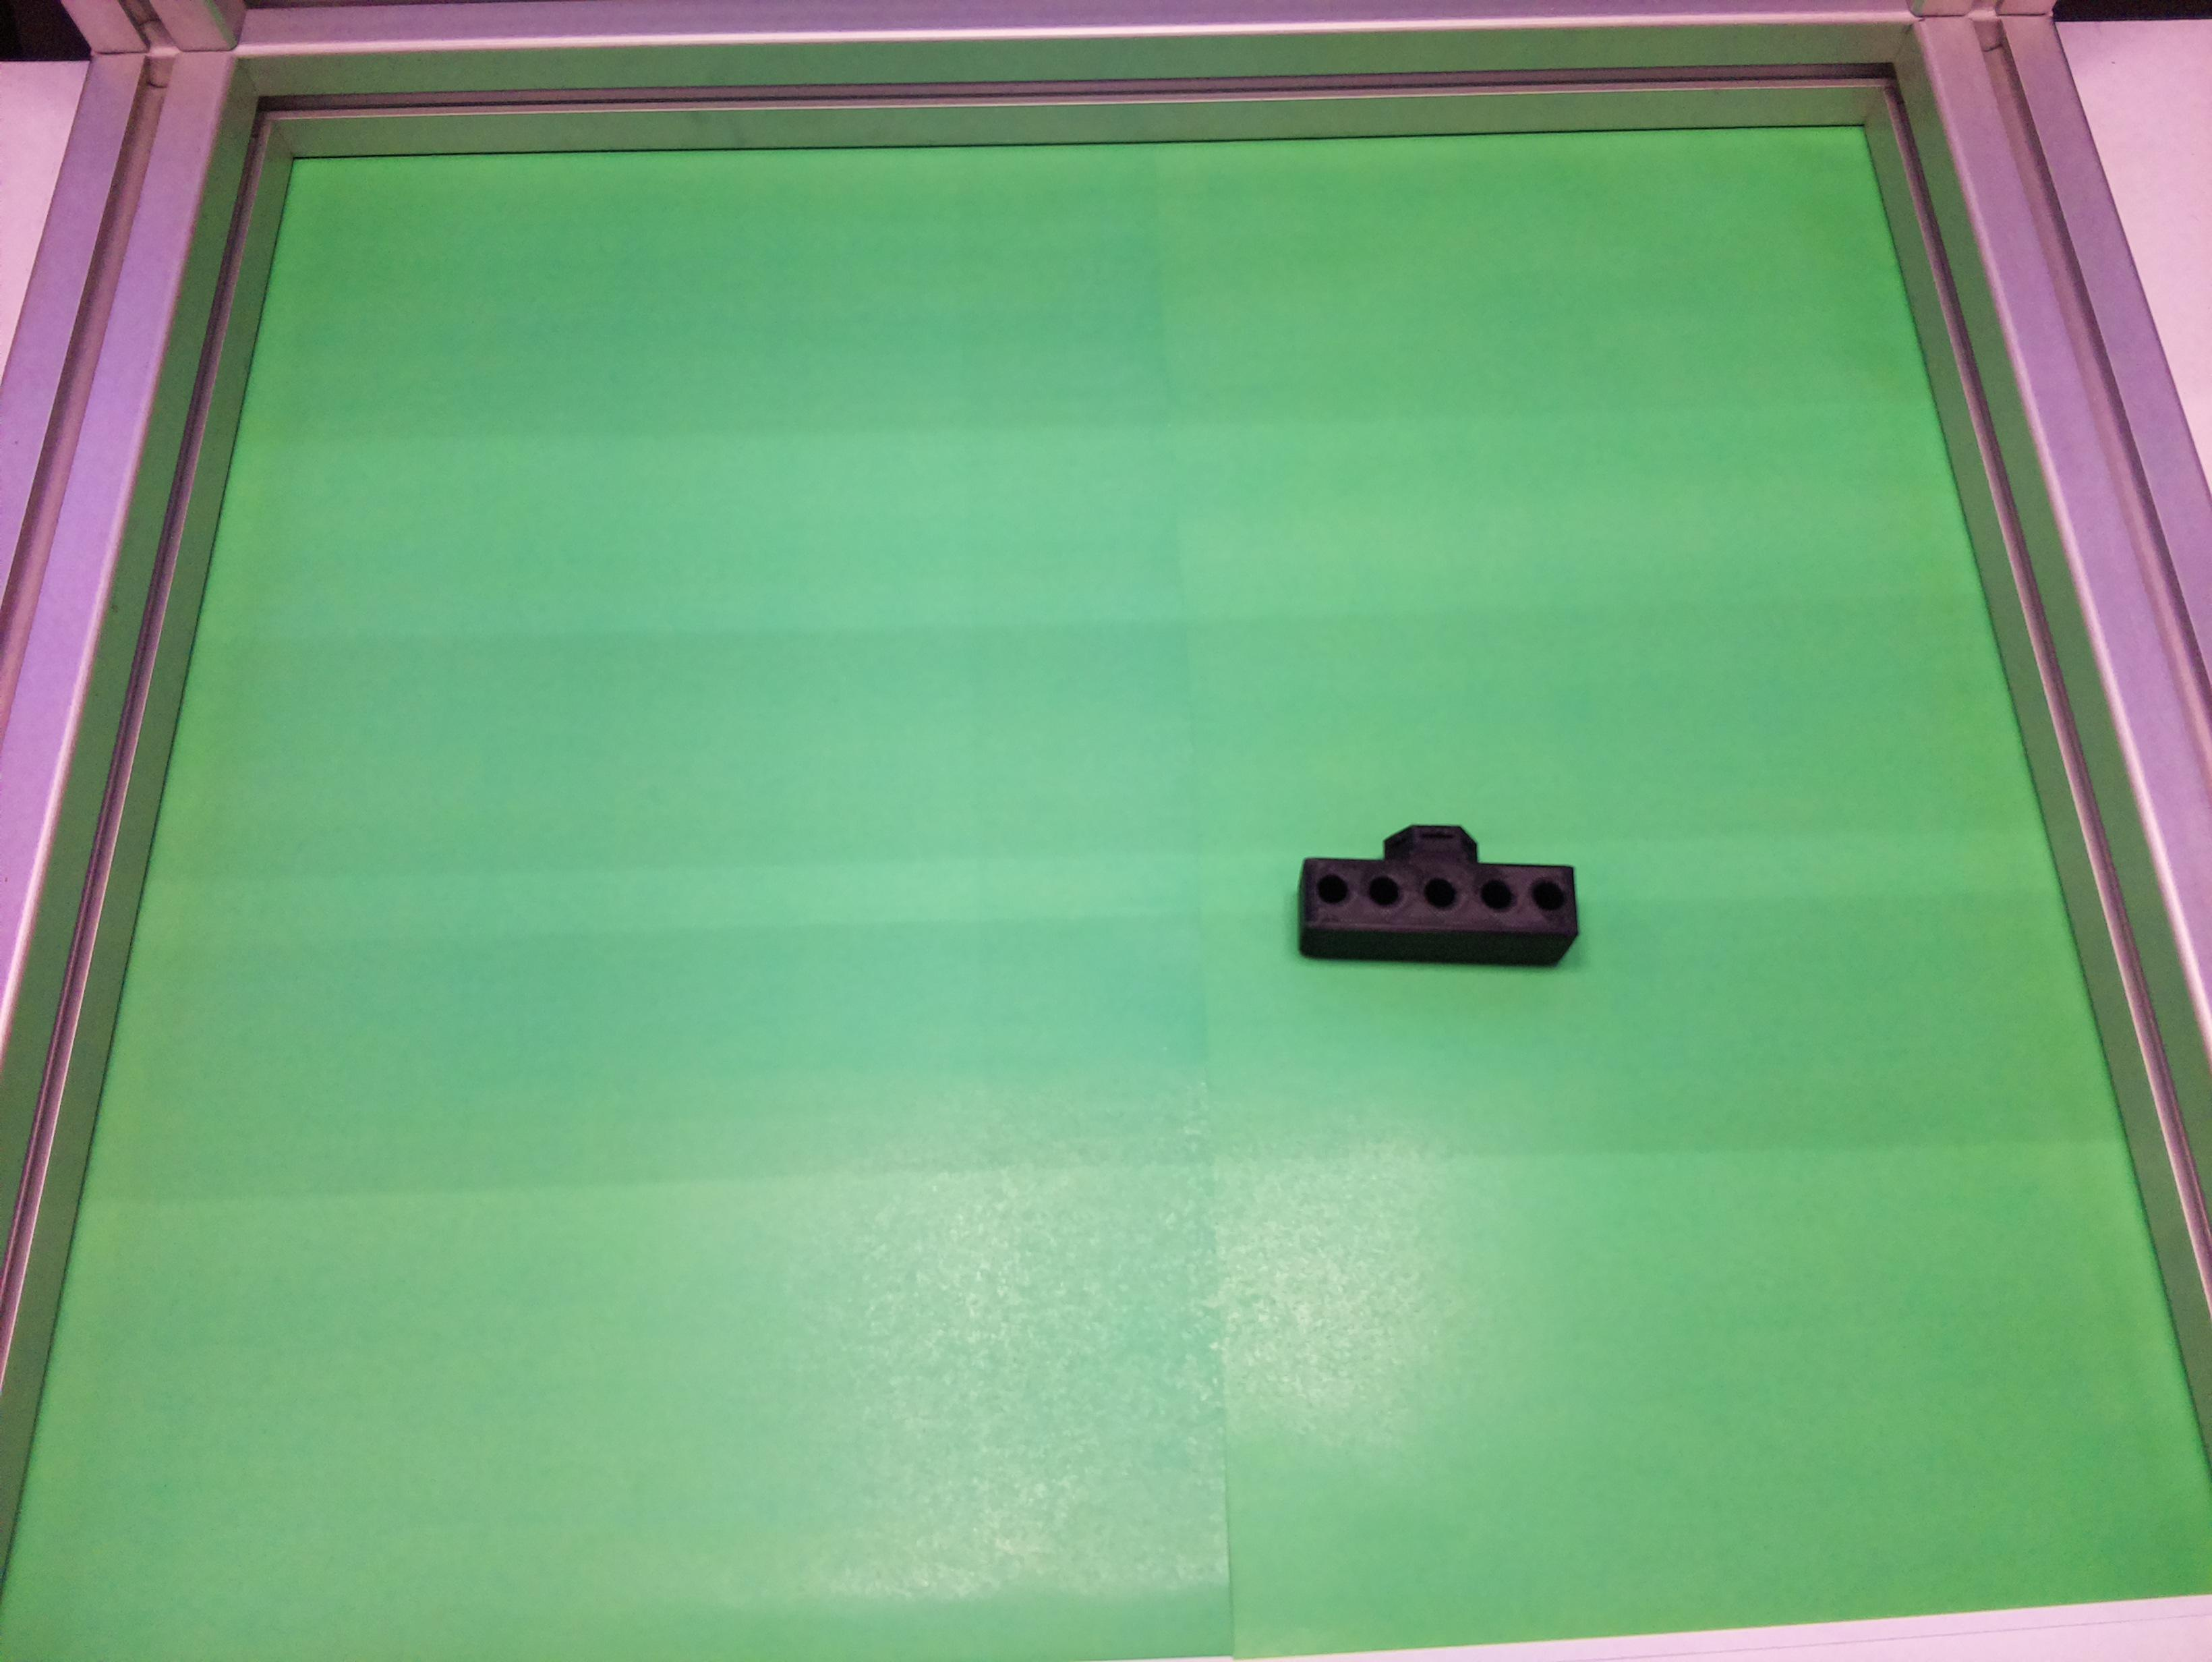bit_holder: (1295, 819, 1582, 971)
